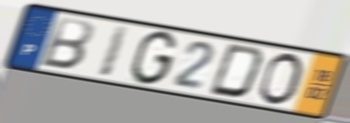2: (169, 40, 219, 92)
B: (36, 15, 95, 72)
D: (206, 42, 268, 101)
G: (127, 30, 179, 88)
I: (95, 23, 132, 80)
O: (255, 51, 306, 108)
